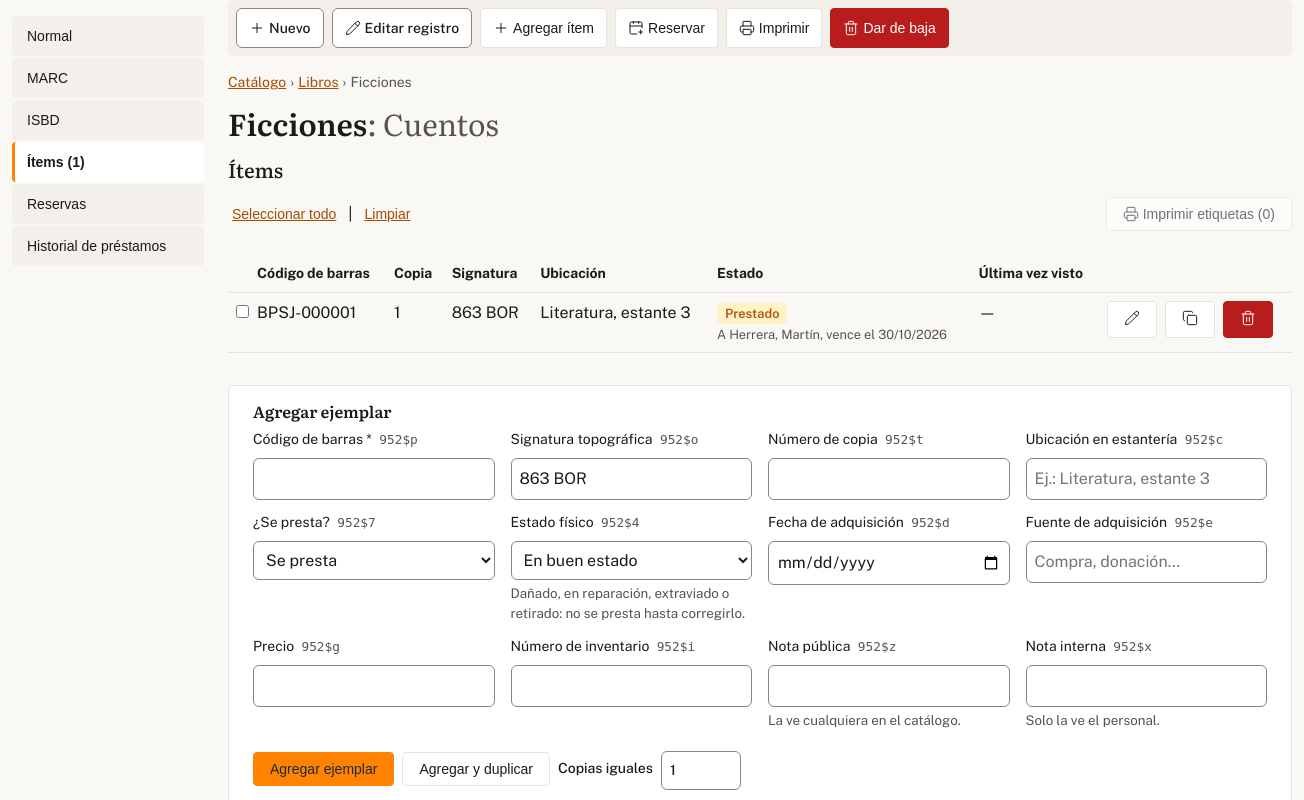
Scenario: FichaMaterialPanel › en Ítems agrega varias copias iguales de una vez (952)
Expected: the field labelled "Signatura topográfica 952$o" holds "863 BOR", [510,458,752,500]
Step 1. Type "BPSJ-000002" into the field labelled "Código de barras * 952$p" → x=374, y=479, box [253,458,494,500]
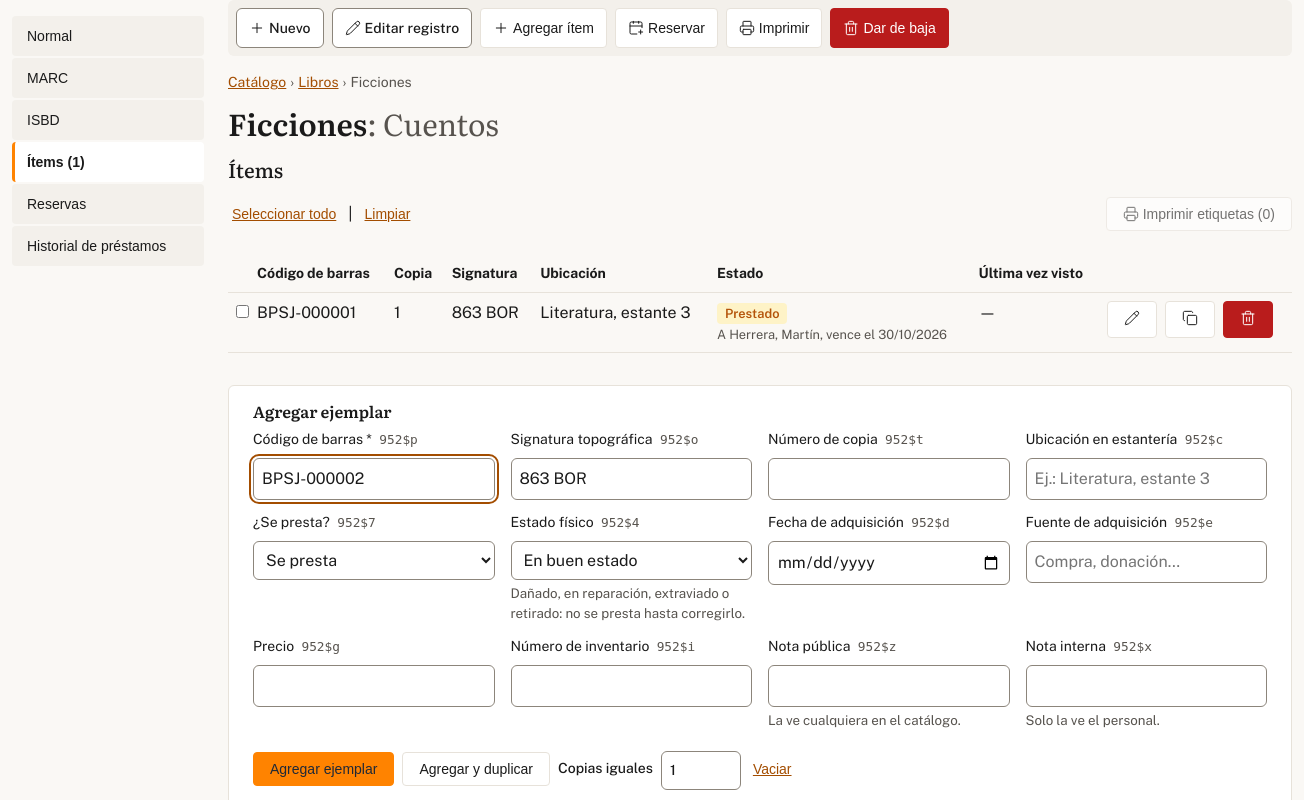
Step 2. Replace the text in the number field labelled "Copias iguales" with "3" → x=701, y=771, box [661,751,741,790]
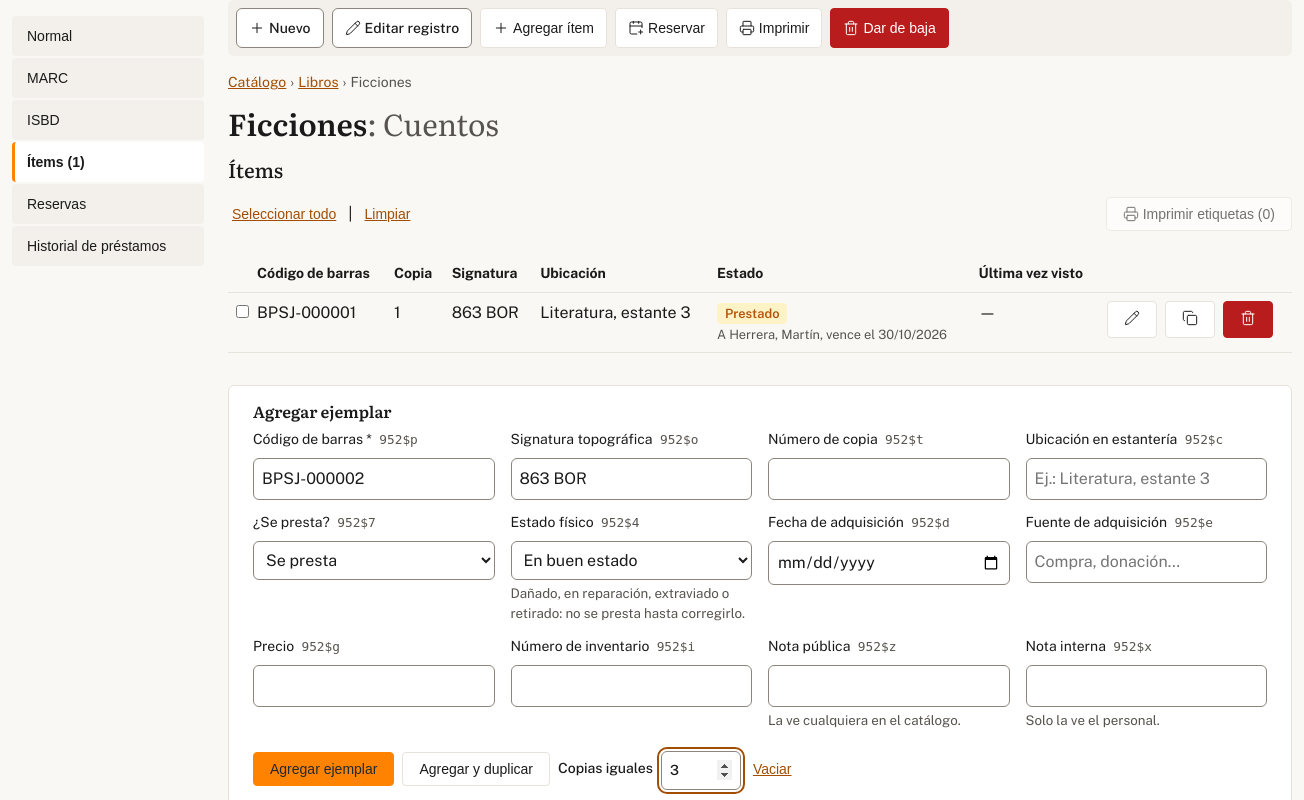
Step 3. Click the button "Agregar ejemplar" → x=324, y=769, box [253,752,394,786]
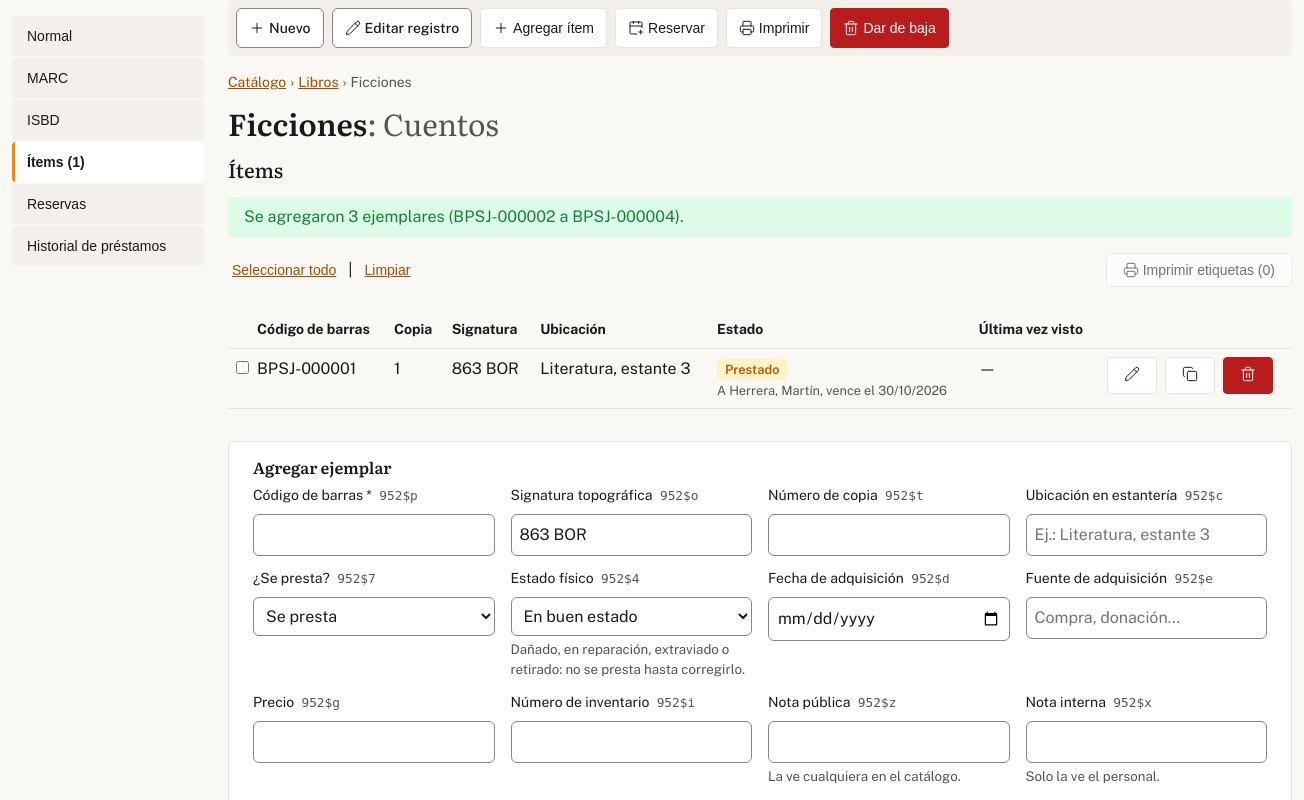
Expected: the text "Se agregaron 3 ejemplares (BPSJ-000002 a BPSJ-000004)." is shown, [228,197,1292,237]
